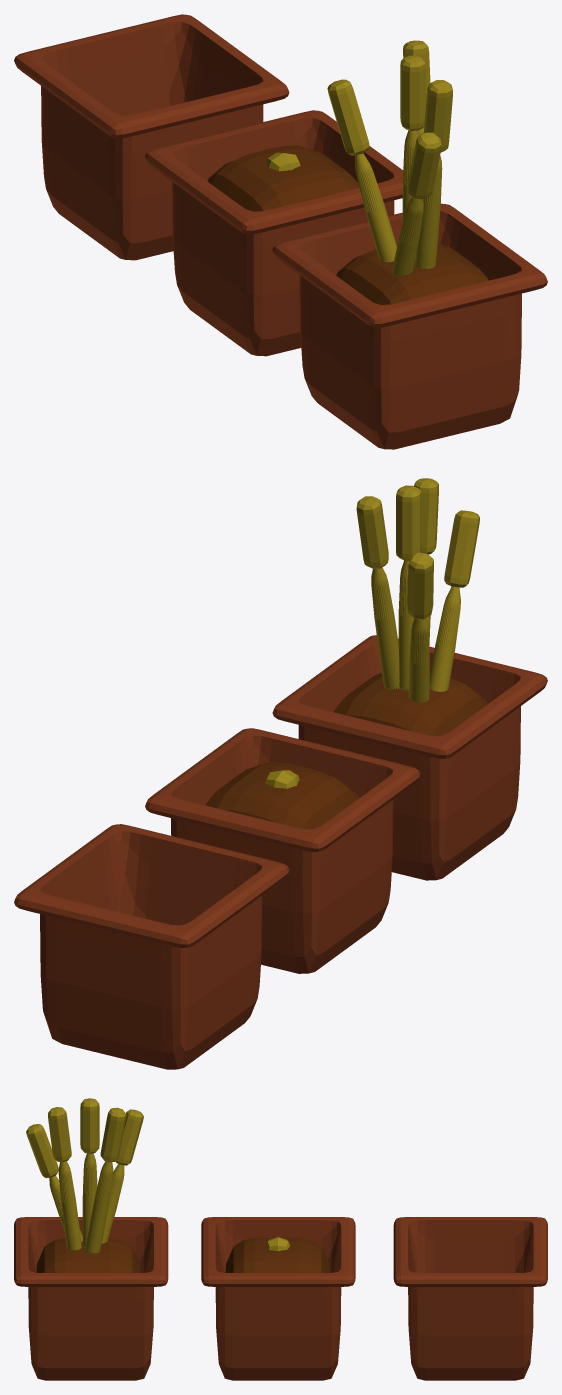
File: Pots.fbx
3 views of the same model, one above another, from view 1: azimuth 30°, elevation 25°; view 2: azimuth 150°, elevation 25°; view 3: azimuth 270°, elevation 25° (orthographic). The views are drawn at different scales.
Visible parts, largest first — view 1: Pot with grown plant, Pot, Pot with dirt, dirt, dirt.001, Barley.003, Barley.004, Barley.001, Barley, Barley.002; view 2: Pot, Pot with dirt, Pot with grown plant, dirt, dirt.001, Barley.002, Barley.004, Barley.003, Barley, Barley.001; view 3: Pot, Pot with dirt, Pot with grown plant, dirt, dirt.001, Barley.002, Barley.001, Barley, Barley.003, Barley.004.
Boxes of the visible parts, x1,y1,x2,y2 form: Pot with grown plant: (272, 203, 547, 449); Pot: (14, 14, 289, 260); Pot with dirt: (145, 110, 403, 356); dirt: (207, 145, 359, 211); dirt.001: (336, 243, 488, 304); Barley.003: (327, 79, 396, 262); Barley.004: (392, 132, 441, 275); Barley.001: (415, 80, 452, 268); Barley: (400, 55, 426, 260); Barley.002: (403, 40, 430, 135); Pot: (14, 824, 289, 1069); Pot with dirt: (145, 728, 420, 973); Pot with grown plant: (272, 635, 547, 880); dirt: (206, 762, 358, 829); dirt.001: (334, 672, 487, 736); Barley.002: (356, 496, 399, 689); Barley.004: (429, 510, 479, 691); Barley.003: (407, 552, 433, 702); Barley: (396, 485, 421, 691); Barley.001: (414, 478, 438, 645); Pot: (393, 1217, 547, 1380); Pot with dirt: (201, 1217, 355, 1380); Pot with grown plant: (14, 1217, 168, 1380); dirt: (225, 1237, 330, 1272); dirt.001: (36, 1238, 141, 1272); Barley.002: (85, 1107, 126, 1254); Barley.001: (48, 1107, 81, 1250); Barley: (80, 1098, 99, 1248); Barley.003: (101, 1109, 143, 1243); Barley.004: (26, 1124, 82, 1241).
Size of the model in its own units: 888 by 1689 by 3134.
